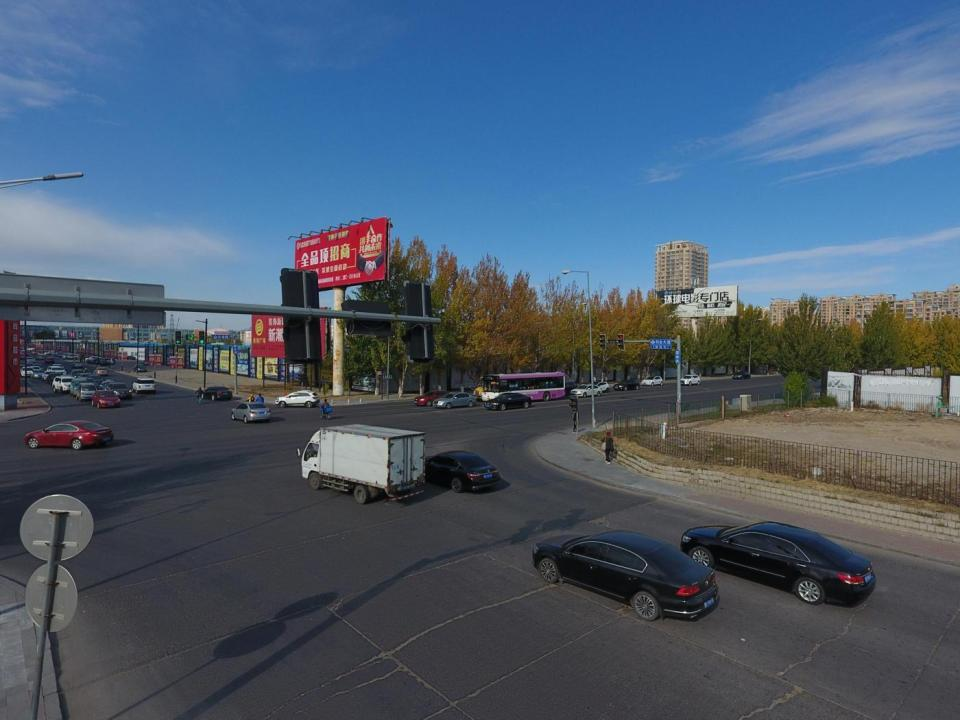bus: (481, 371, 565, 402), (473, 376, 516, 400)
car: (529, 526, 720, 621), (682, 519, 877, 606), (411, 448, 500, 496), (23, 419, 113, 450), (484, 392, 532, 410), (432, 392, 477, 410), (276, 391, 321, 409), (231, 403, 271, 423), (90, 389, 122, 409), (414, 391, 452, 407), (200, 386, 233, 401), (570, 384, 603, 398), (132, 376, 156, 394), (53, 376, 77, 394), (553, 380, 578, 396), (100, 379, 120, 396), (613, 379, 640, 391), (678, 374, 701, 386), (589, 380, 610, 393), (641, 376, 665, 387), (46, 373, 66, 385), (86, 374, 103, 387), (46, 366, 66, 376), (40, 370, 58, 381), (731, 371, 752, 380), (92, 367, 108, 376), (77, 373, 92, 382), (22, 366, 34, 377), (31, 370, 45, 378), (70, 369, 84, 377), (101, 358, 116, 365), (85, 356, 100, 363), (134, 364, 147, 372), (52, 363, 65, 371), (31, 366, 41, 376), (61, 354, 79, 359), (71, 361, 83, 368), (95, 359, 107, 366), (58, 352, 72, 358), (47, 350, 61, 356), (43, 350, 56, 356), (26, 363, 34, 372), (32, 364, 43, 370), (25, 356, 35, 362), (90, 358, 101, 363), (45, 358, 54, 364), (35, 354, 44, 360), (124, 356, 136, 360), (19, 354, 26, 359), (22, 351, 29, 356), (30, 351, 37, 355), (26, 347, 35, 350)
truck: (301, 425, 428, 503), (73, 382, 99, 401)
van: (107, 382, 131, 398), (70, 378, 87, 397)
